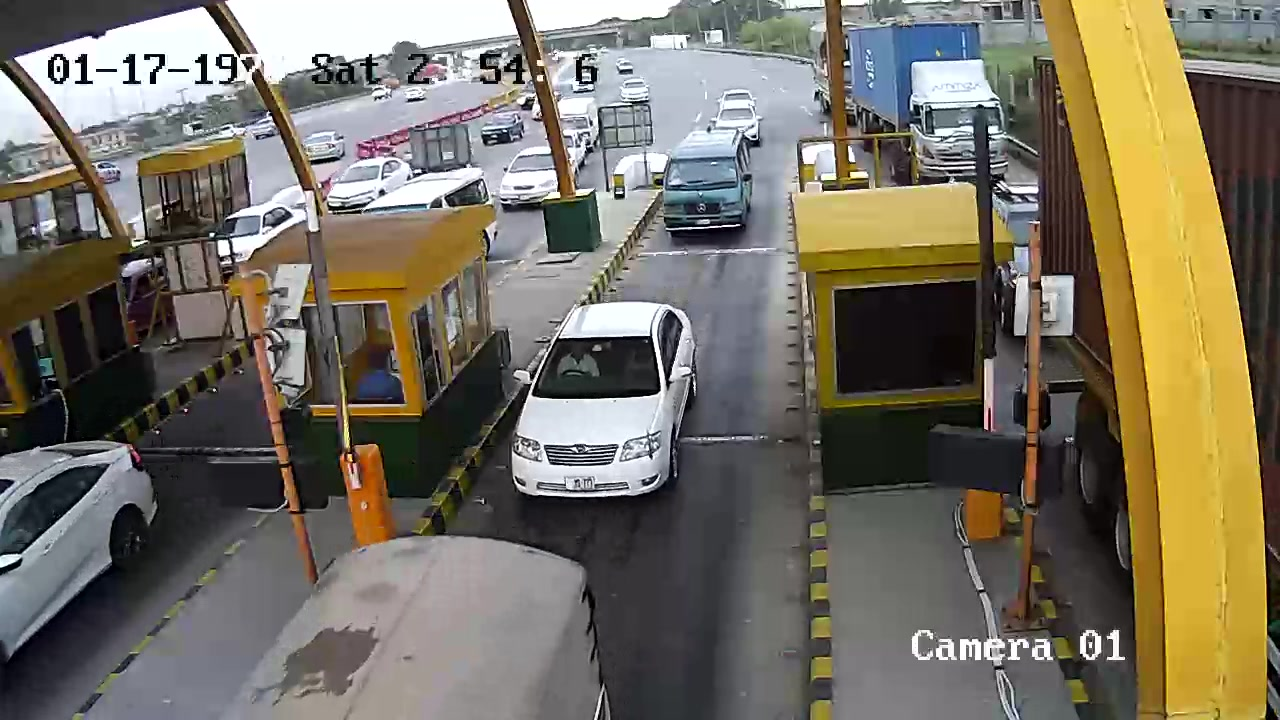F1: (504, 297, 709, 507)
